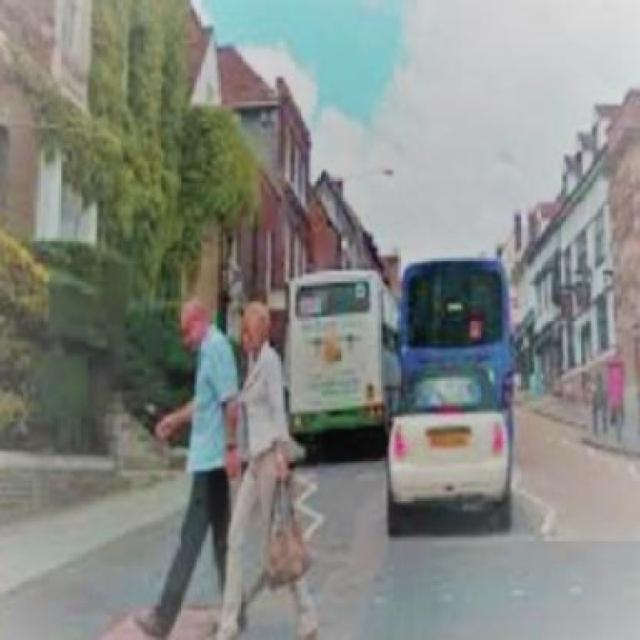Person: (215, 292, 322, 638), (132, 296, 239, 638)
